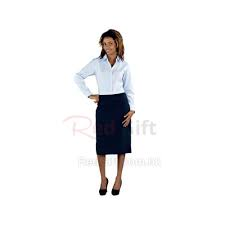F_shirt: (74, 53, 137, 111)
F_tailored skirt: (89, 90, 138, 157)
